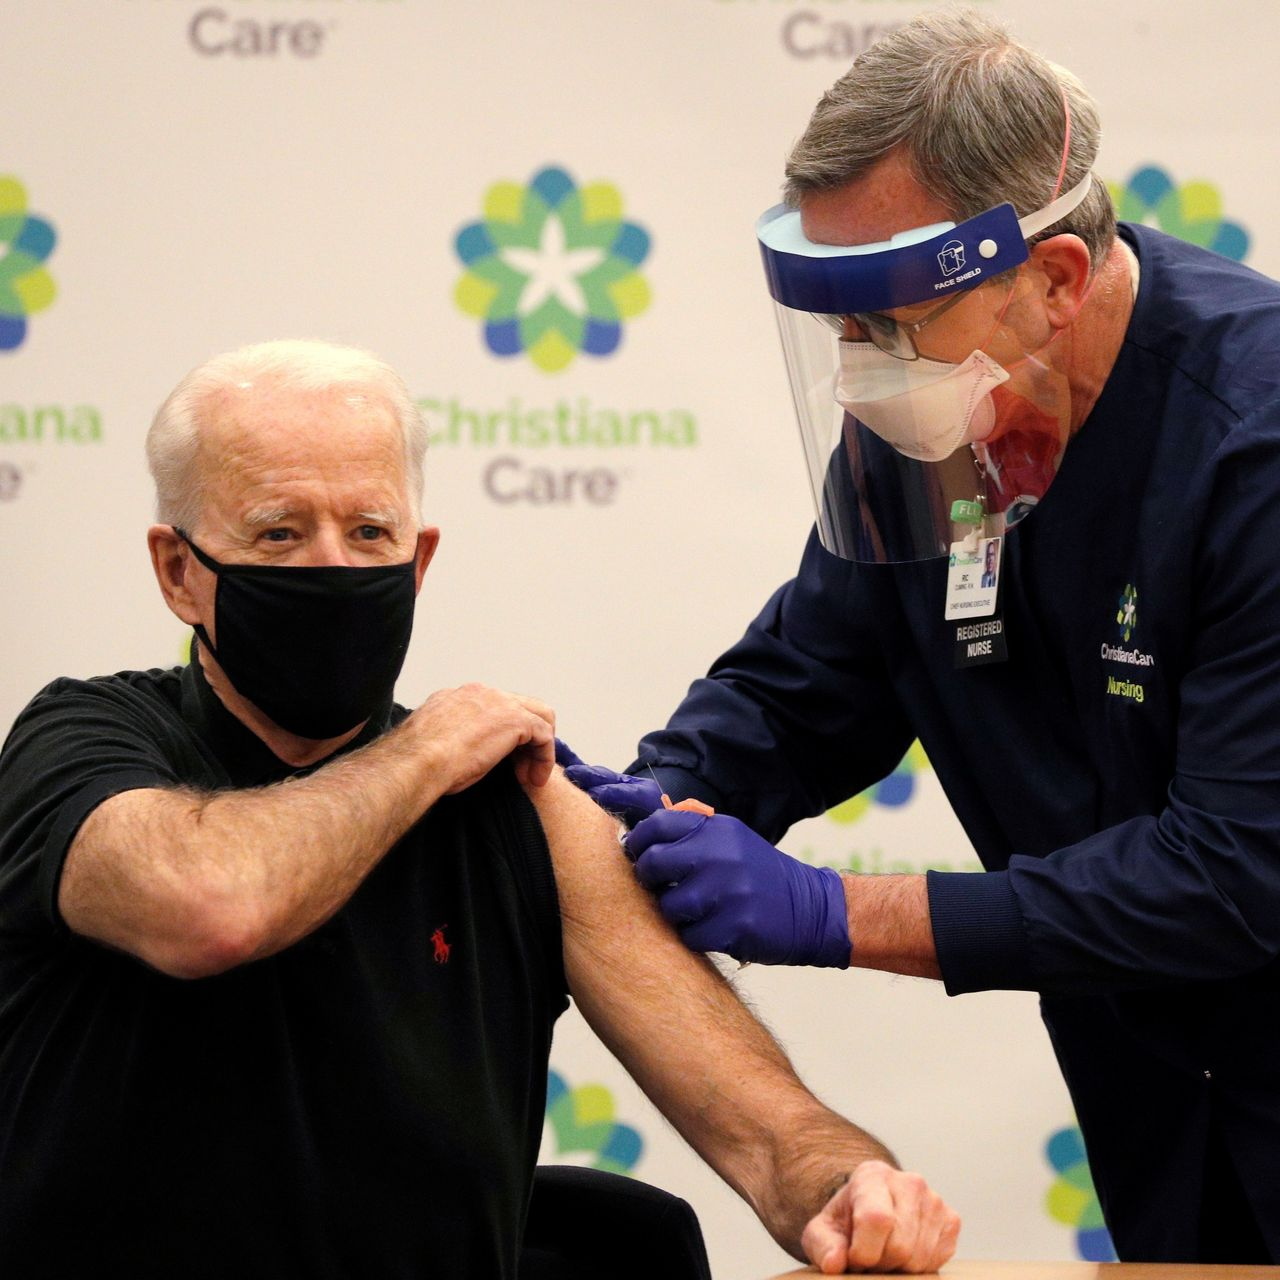with_mask: (815, 251, 990, 435), (233, 474, 393, 646)
